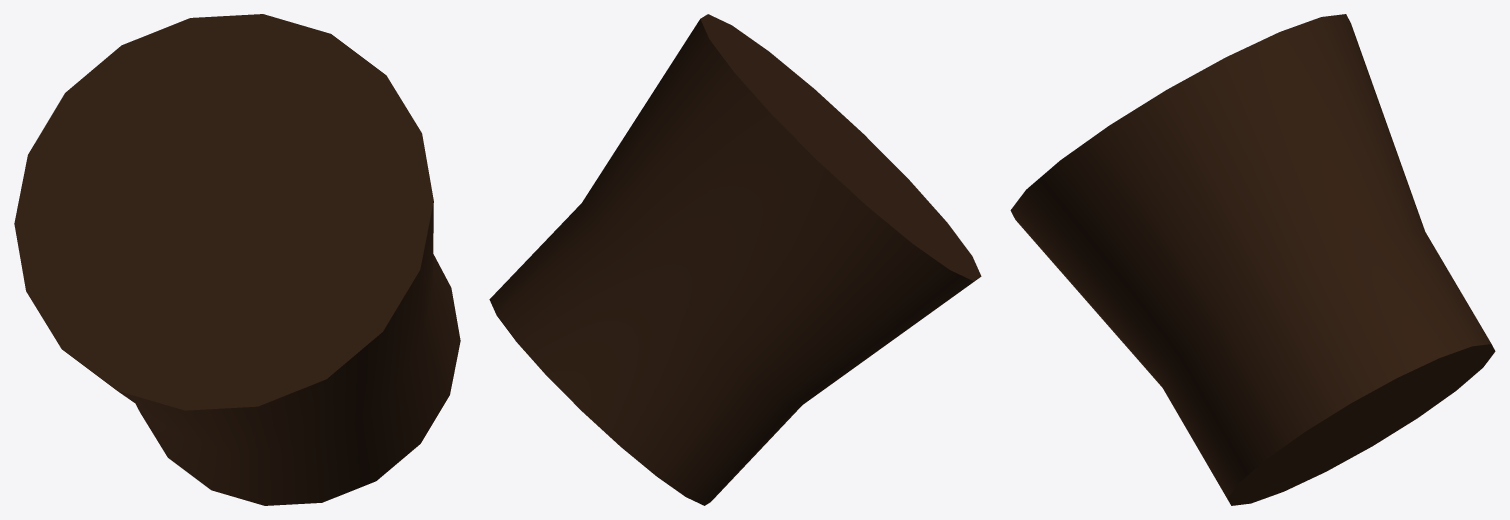
File: Cork.fbx
3 views of the same model, side by side, from view 1: azimuth 30°, elevation 25°; view 2: azimuth 150°, elevation 25°; view 3: azimuth 270°, elevation 25° (orthographic). The views are drawn at different scales.
Parts seen in each view (by area): view 1: Cylinder001; view 2: Cylinder001; view 3: Cylinder001.
Part boxes in pixels (x1,y1,x2,y2): Cylinder001: (14, 14, 460, 505); Cylinder001: (489, 14, 981, 505); Cylinder001: (1010, 14, 1495, 505).
Size of the model in its own units: 5.28 by 5.5 by 5.28.
